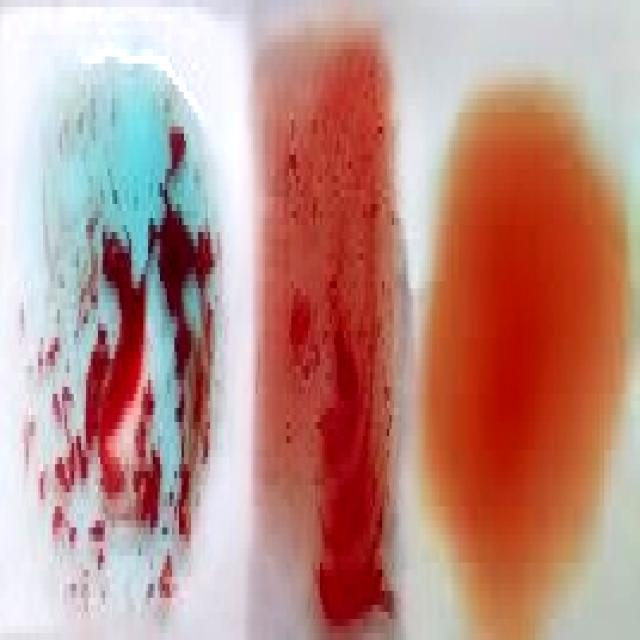A: (23, 54, 217, 628)
D: (256, 23, 408, 629)
